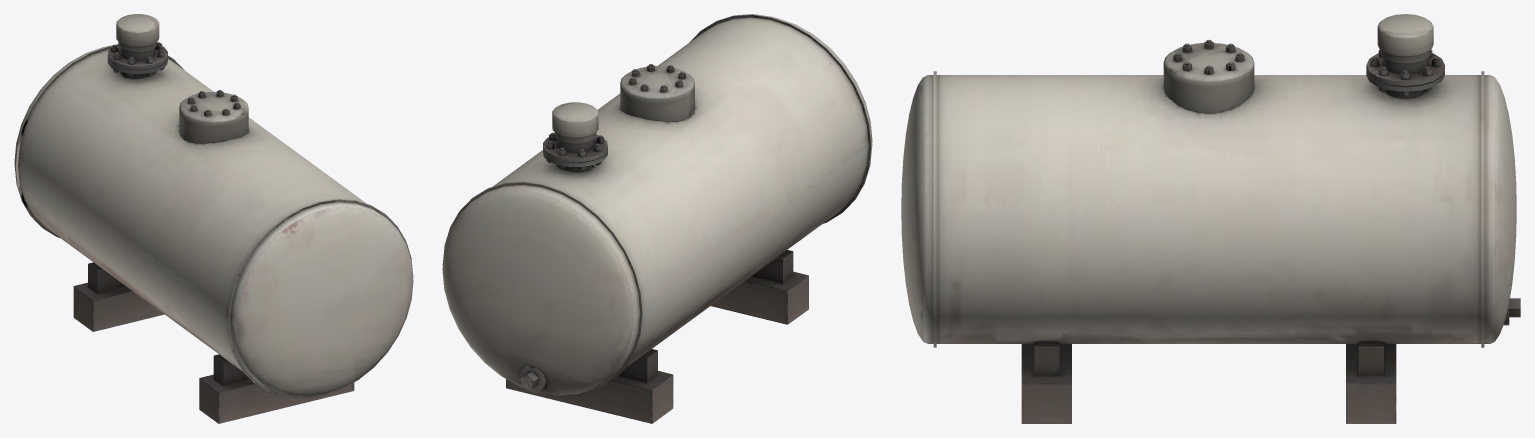
3 views of the same model, side by side, from view 1: azimuth 30°, elevation 25°; view 2: azimuth 150°, elevation 25°; view 3: azimuth 270°, elevation 25° (orthographic). The views are drawn at different scales.
Visible parts, largest first — view 1: body0_model0_lod0_mesh0; view 2: body0_model0_lod0_mesh0; view 3: body0_model0_lod0_mesh0.
Boxes of the visible parts, x1,y1,x2,y2 form: body0_model0_lod0_mesh0: (14,14,413,423); body0_model0_lod0_mesh0: (442,14,872,423); body0_model0_lod0_mesh0: (901,14,1520,423).
Bounding box in the file's own units: 98.41 × 140 × 221.
1 material, 1 textured.
